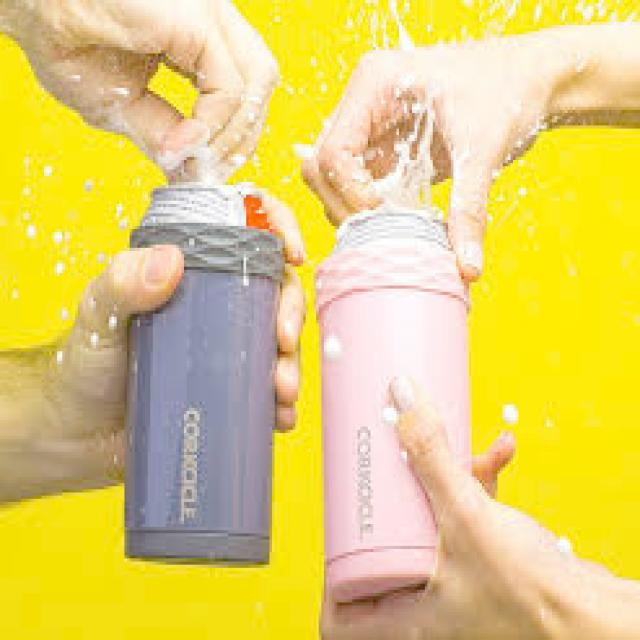bottle: (314, 209, 472, 601), (124, 181, 283, 565)
